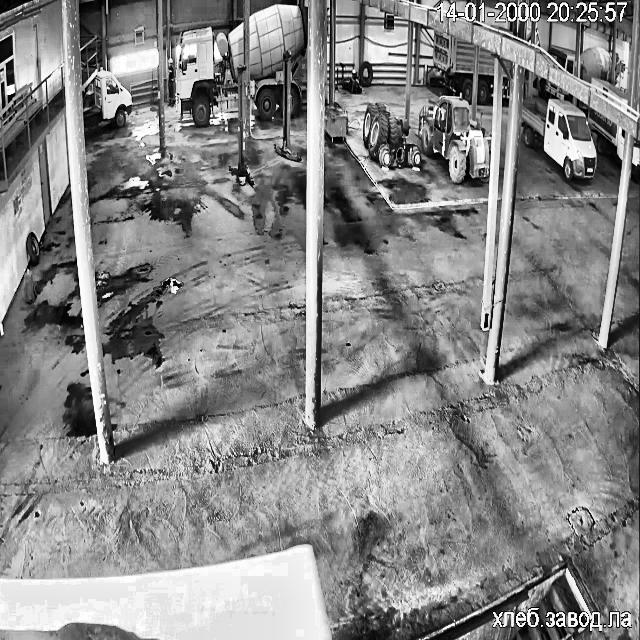car lift: (229, 67, 253, 186), (274, 52, 300, 161)
mechanic: (168, 59, 175, 106)
tractor: (418, 96, 489, 181), (362, 102, 420, 165)
truck: (176, 22, 244, 124), (247, 4, 306, 118), (521, 100, 596, 180), (433, 29, 474, 100), (84, 69, 132, 125), (588, 108, 624, 158), (580, 46, 610, 81), (476, 48, 494, 103), (592, 78, 628, 102), (536, 77, 570, 99), (548, 45, 574, 73), (632, 140, 640, 179), (500, 76, 508, 97), (616, 53, 620, 76), (505, 60, 510, 68)
